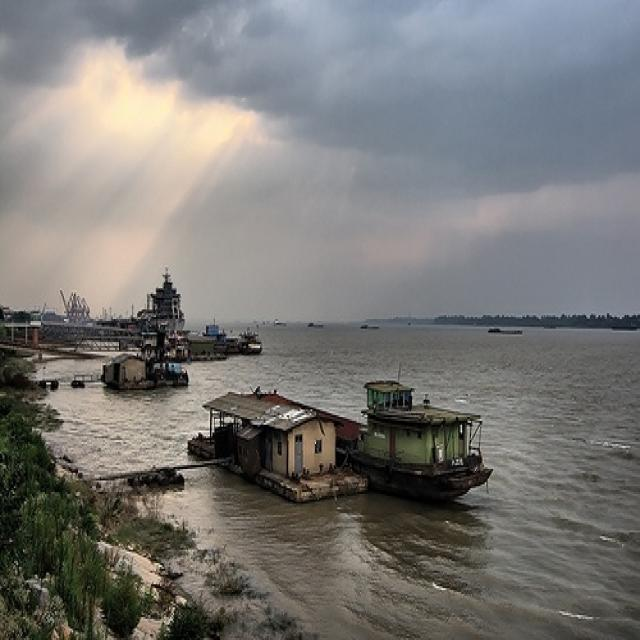Raft: (221, 394, 362, 507), (104, 356, 159, 393)
boat: (352, 398, 489, 506), (239, 331, 266, 358), (488, 327, 522, 337), (306, 319, 324, 331), (357, 323, 381, 331)
